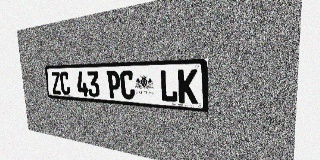3: (87, 71, 100, 97)
4: (76, 71, 88, 96)
C: (120, 70, 135, 100), (59, 72, 71, 95)
K: (178, 69, 198, 104)
L: (159, 69, 178, 103)
P: (107, 71, 121, 99)
Z: (51, 72, 61, 95)
